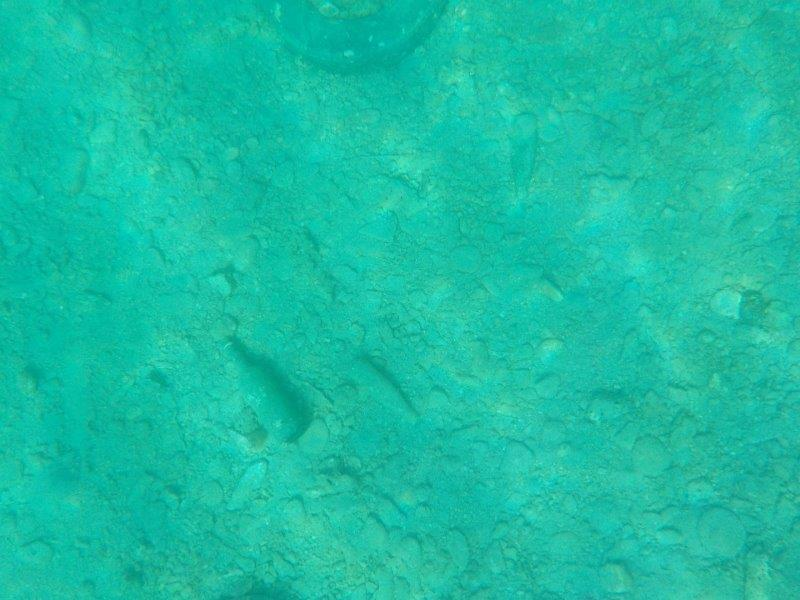bottle: (214, 334, 312, 447), (344, 356, 425, 430), (503, 106, 547, 206)
tire: (257, 1, 452, 77)
